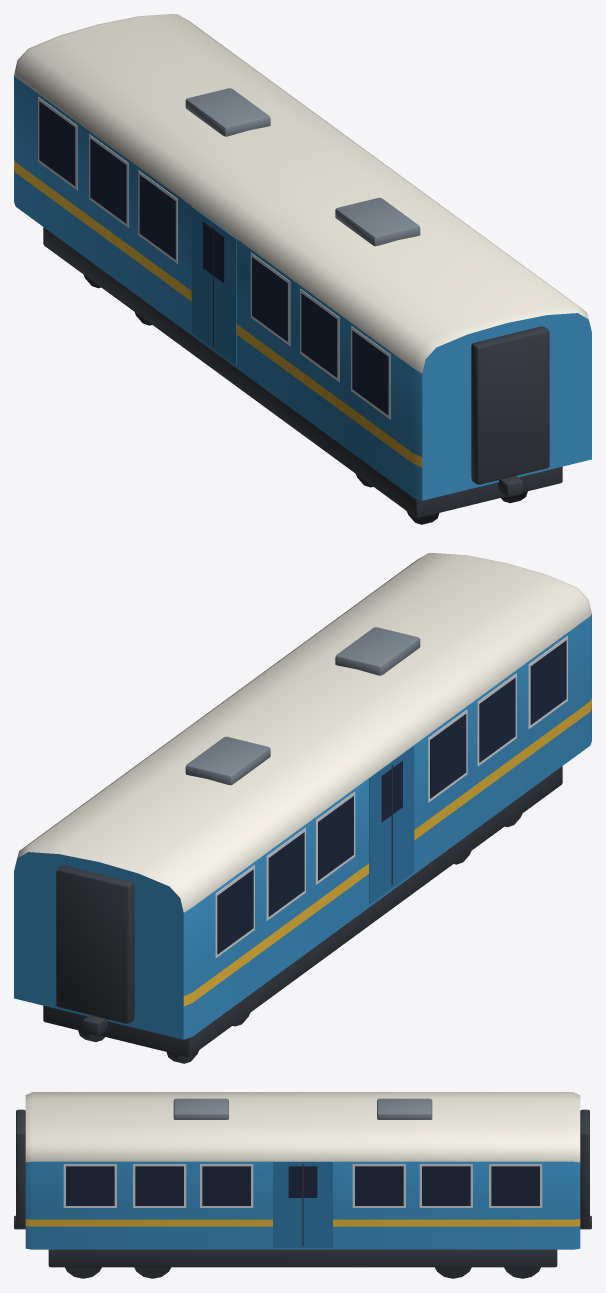
File: car-proto.glb
3 renders of one model, top to bottom at view 1: azimuth 30°, elevation 25°; view 2: azimuth 150°, elevation 25°; view 3: azimuth 270°, elevation 25°, orthographic. The views are drawn at different scales.
Visible parts, largest first — view 1: car-proto; view 2: car-proto; view 3: car-proto.
Boxes of the visible parts, x1,y1,x2,y2 form: car-proto: (14,14,591,524); car-proto: (14,553,591,1063); car-proto: (14,1092,591,1278).
Bounding box in the file's own units: 3.04 × 3.74 × 12.5.
